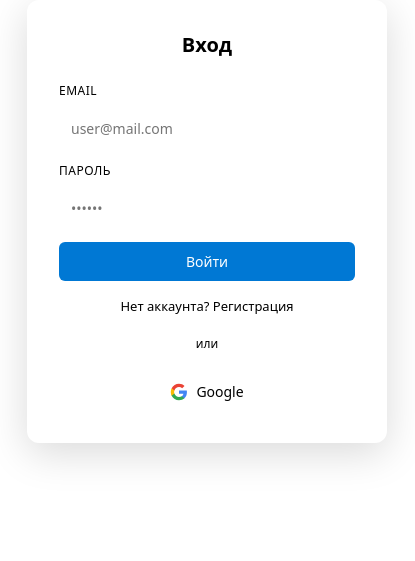
Test case: Register › переключение на регистрацию показывает username
Click the button with class "auth-link": (253, 306) top-left (213, 297), bottom-right (294, 315)
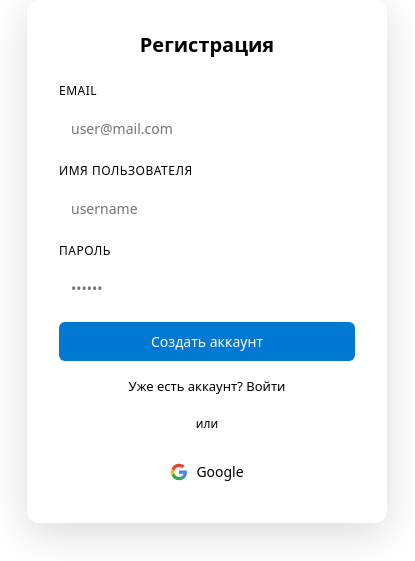
Expected: the text "Регистрация" is shown, top-left (140, 31), bottom-right (274, 58)
Expected: the field with placeholder "username" is shown, top-left (59, 191), bottom-right (355, 226)
